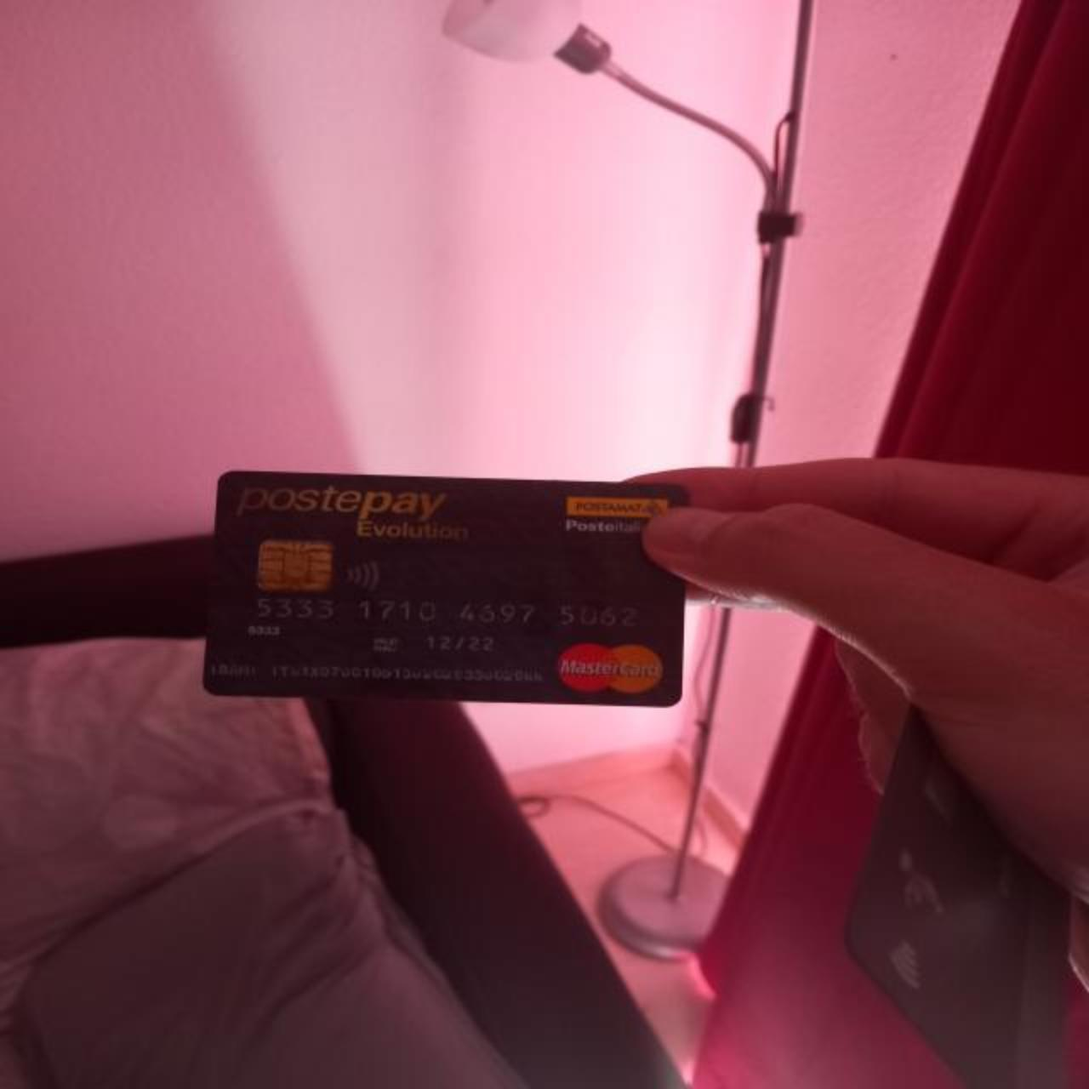credit_card: (202, 469, 690, 709)
